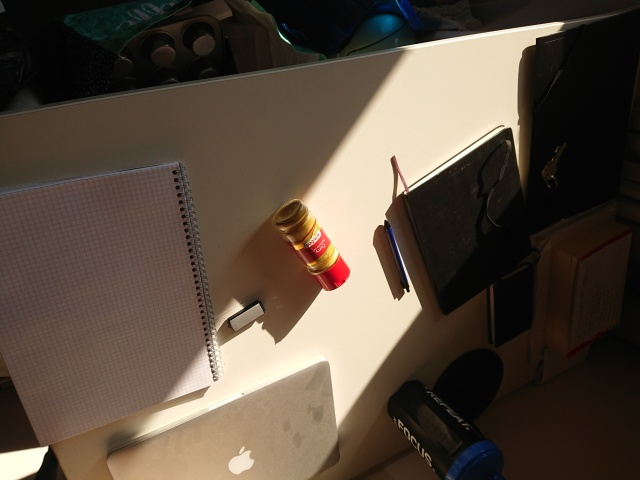Kotanyi Curry Spices Mix 70g: (270, 197, 353, 293)
